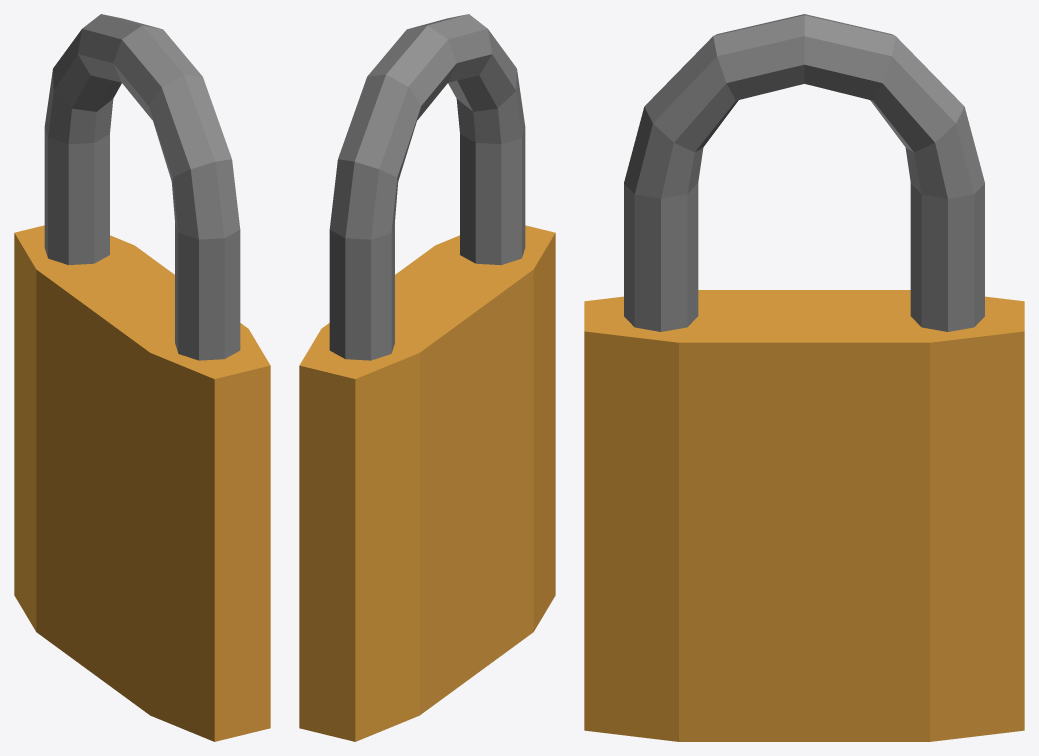
The model's file is lock.fbx.
The picture shows the model from 3 angles, left to right: view 1: azimuth 30°, elevation 25°; view 2: azimuth 150°, elevation 25°; view 3: azimuth 270°, elevation 25°; orthographic projection. The views are drawn at different scales.
Visible parts, largest first — view 1: Cube, Cylinder.001; view 2: Cube, Cylinder.001; view 3: Cube, Cylinder.001.
Boxes of the visible parts, <box> form: Cube: <box>14,225,270,741</box>; Cylinder.001: <box>44,14,240,360</box>; Cube: <box>299,225,555,741</box>; Cylinder.001: <box>329,14,525,360</box>; Cube: <box>584,290,1024,741</box>; Cylinder.001: <box>624,14,984,331</box>.
Size of the model in its own units: 67.45 by 417 by 238.
